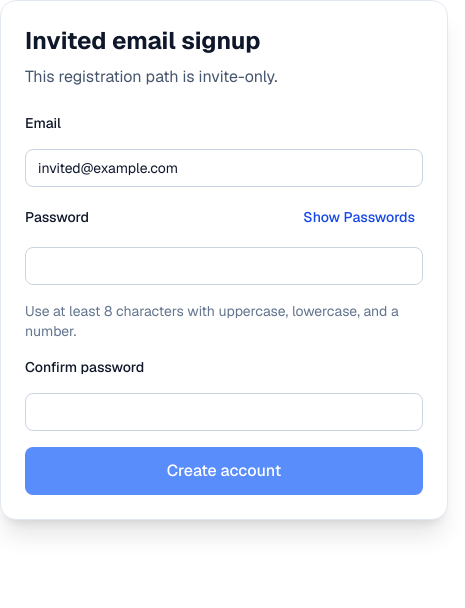
Scenario: InviteEmailSignupForm › shows password mismatch error before submit
The image size is (465, 608).
Type "Secret123" into the password field labelled "Password" at [224, 266], box [25,247,423,285]
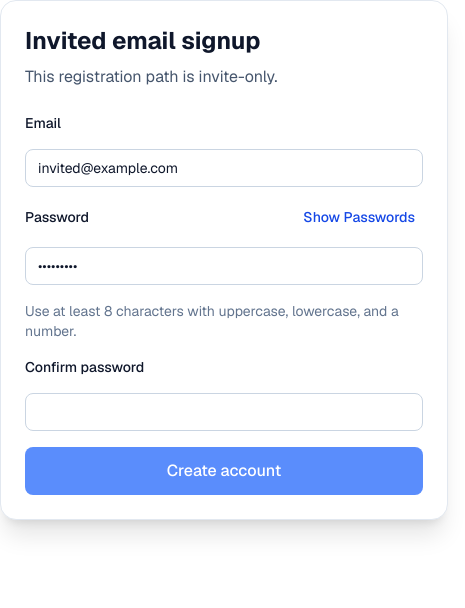
Type "Secret124" into the password field labelled "Confirm password" at [224, 412], box [25,393,423,431]
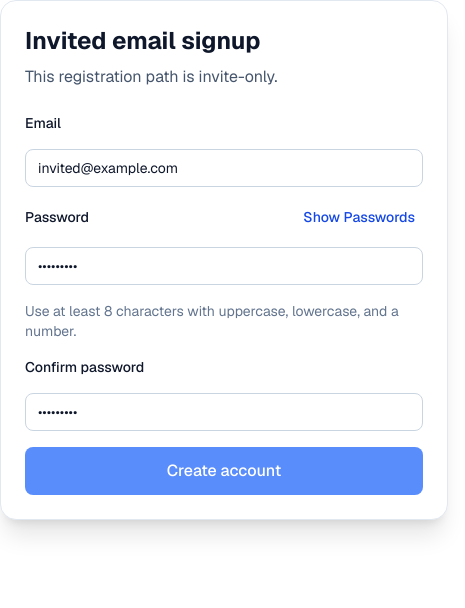
Submit the form named "Create account", box [25,113,423,495]
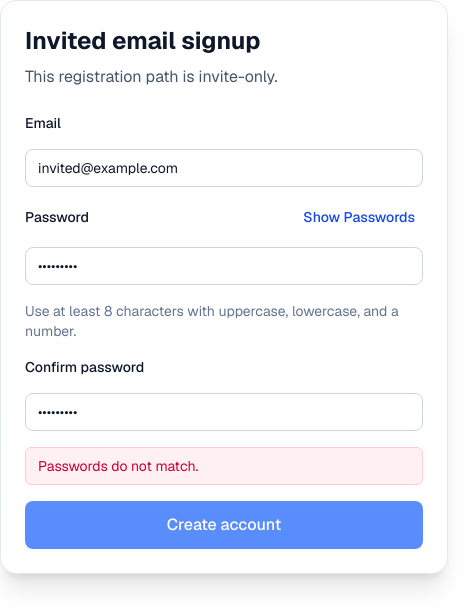
Now the text "Passwords do not match." is shown, box [25,447,423,485]
